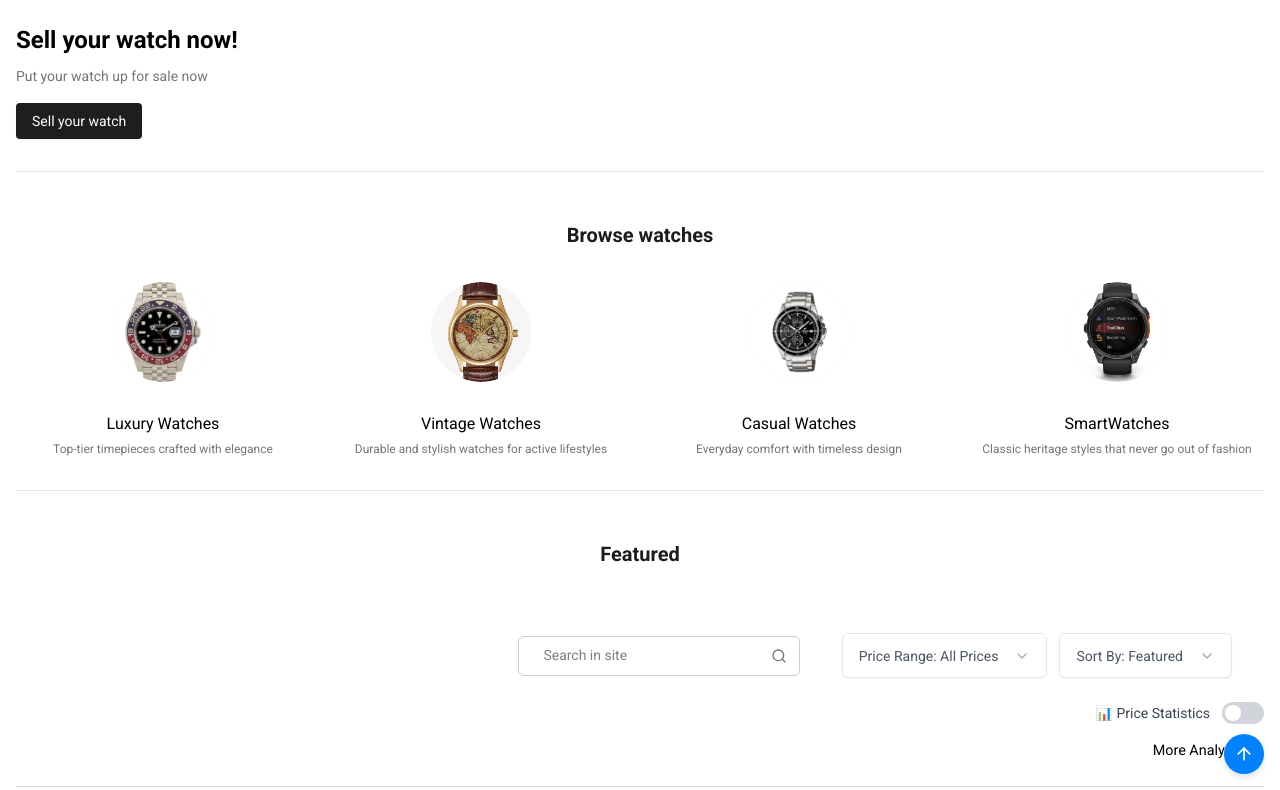
it: Explore Page › shows message when no watches match
The image size is (1280, 790).
Type "xyz" into the field with placeholder "Search in site" at (659, 656), box x1=531 y1=637 x2=787 y2=674
(page scrolled)
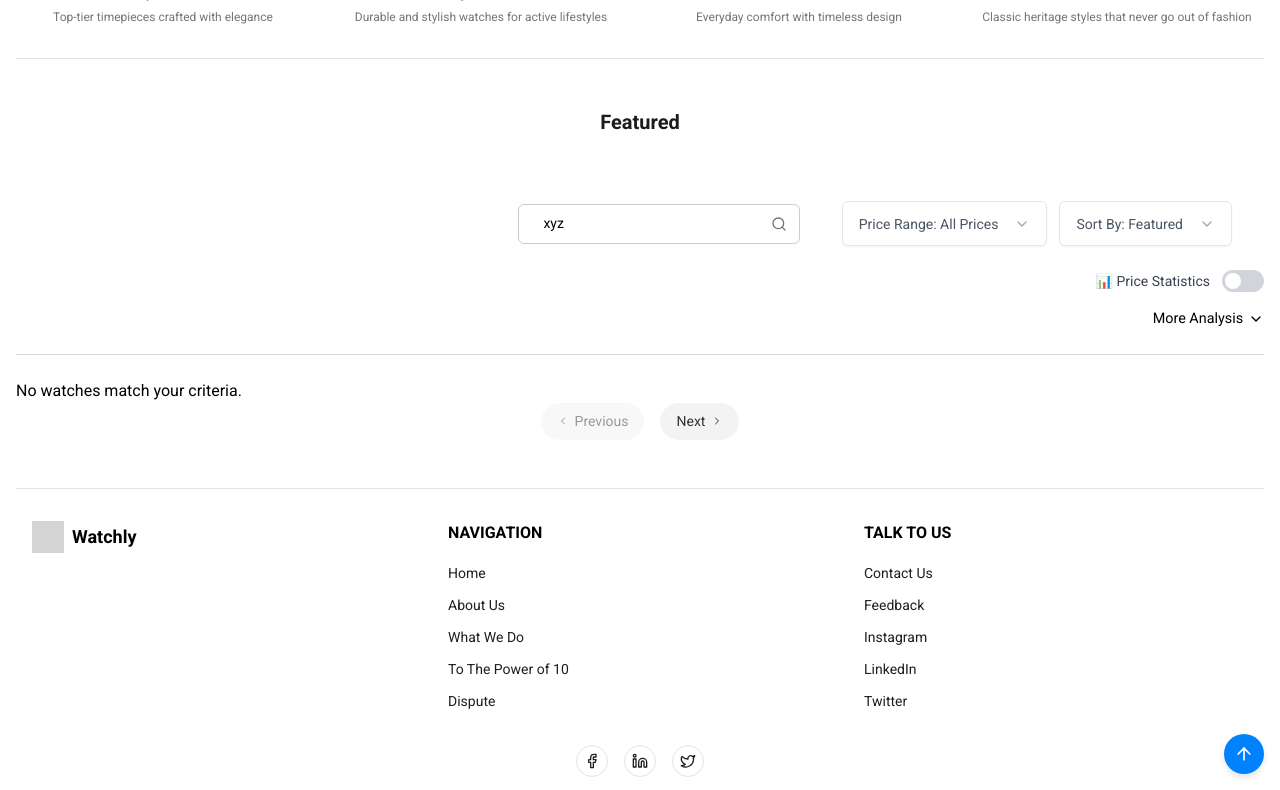
expect the text "No watches match your criteria." is shown: met, box x1=16 y1=381 x2=242 y2=400
